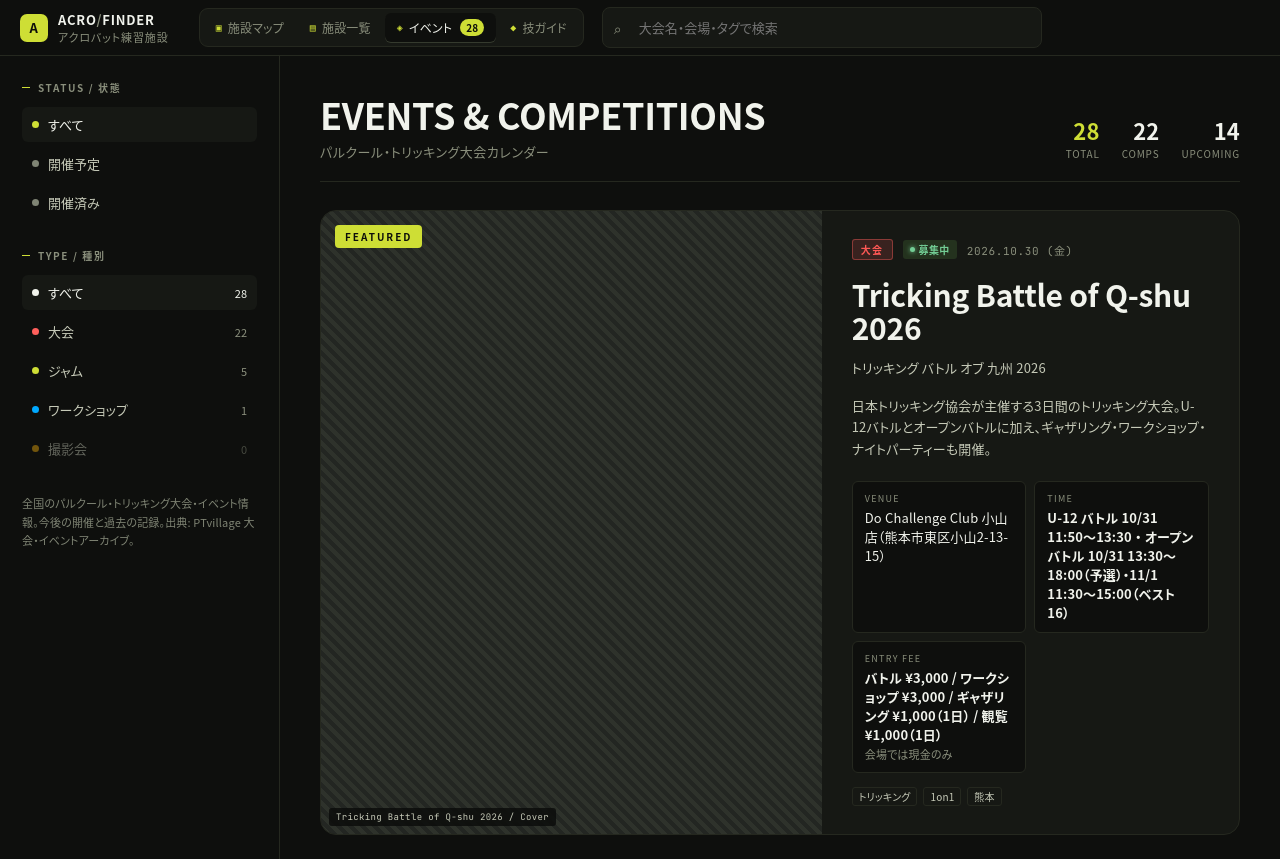
Test: EventsFeed › SHIG review › clears every condition from the empty state
This screenshot has width=1280, height=859.
Click the button with class "filter-row" showing "ジャム 5" at coordinates (140, 370), box [22,353,257,388]
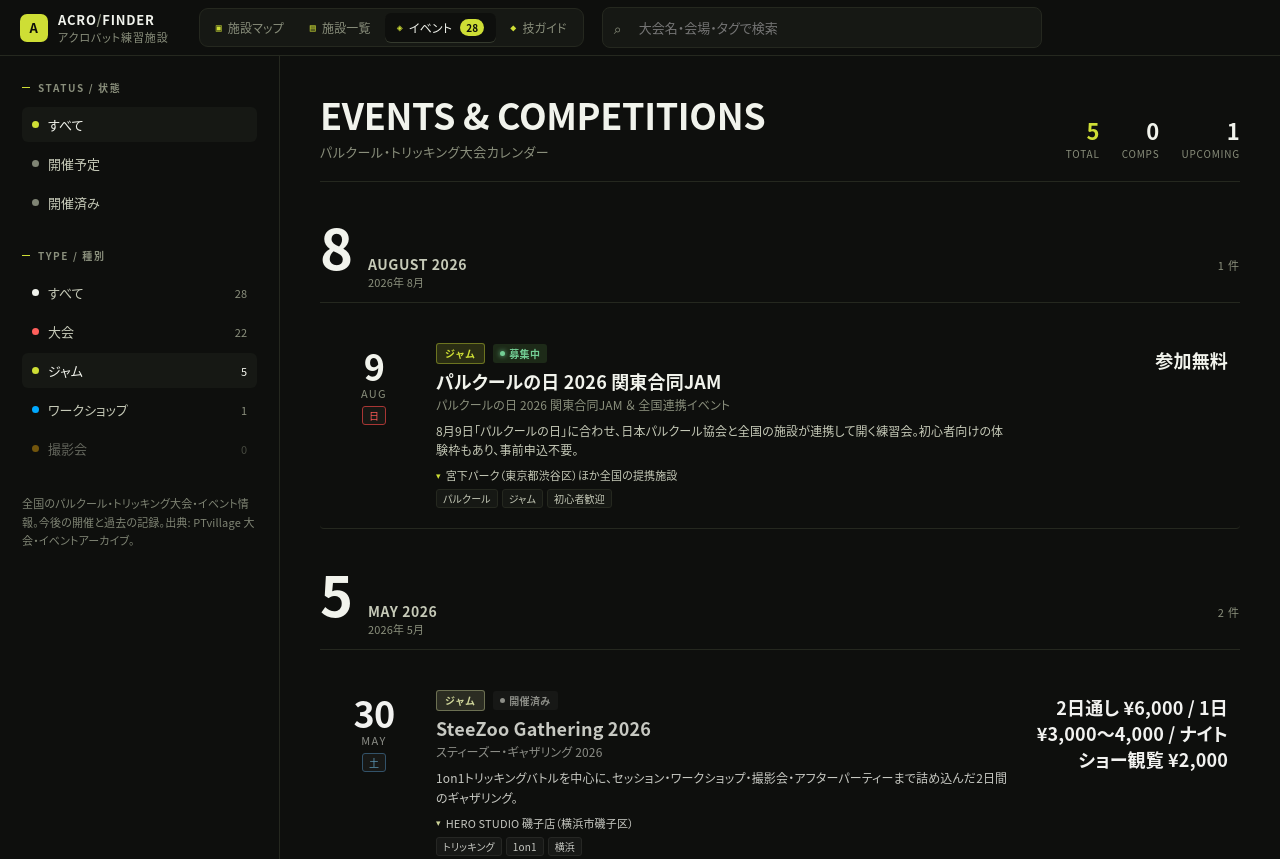
Type "zzz-no-such-event" into the search field with placeholder "大会名・会場・タグで検索" at coordinates (822, 28), box [602,7,1042,48]
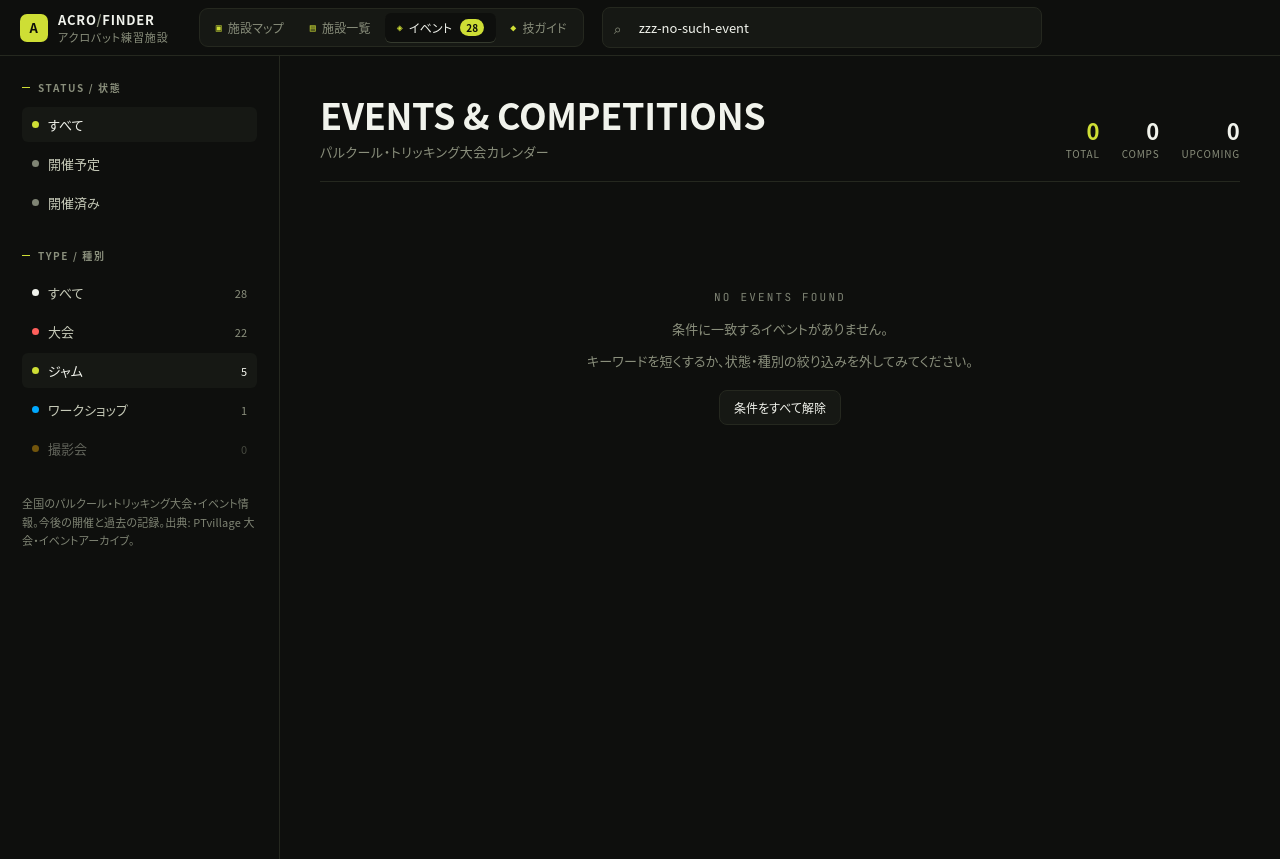
Click the button "条件をすべて解除" at coordinates (780, 408), box [719,390,841,425]
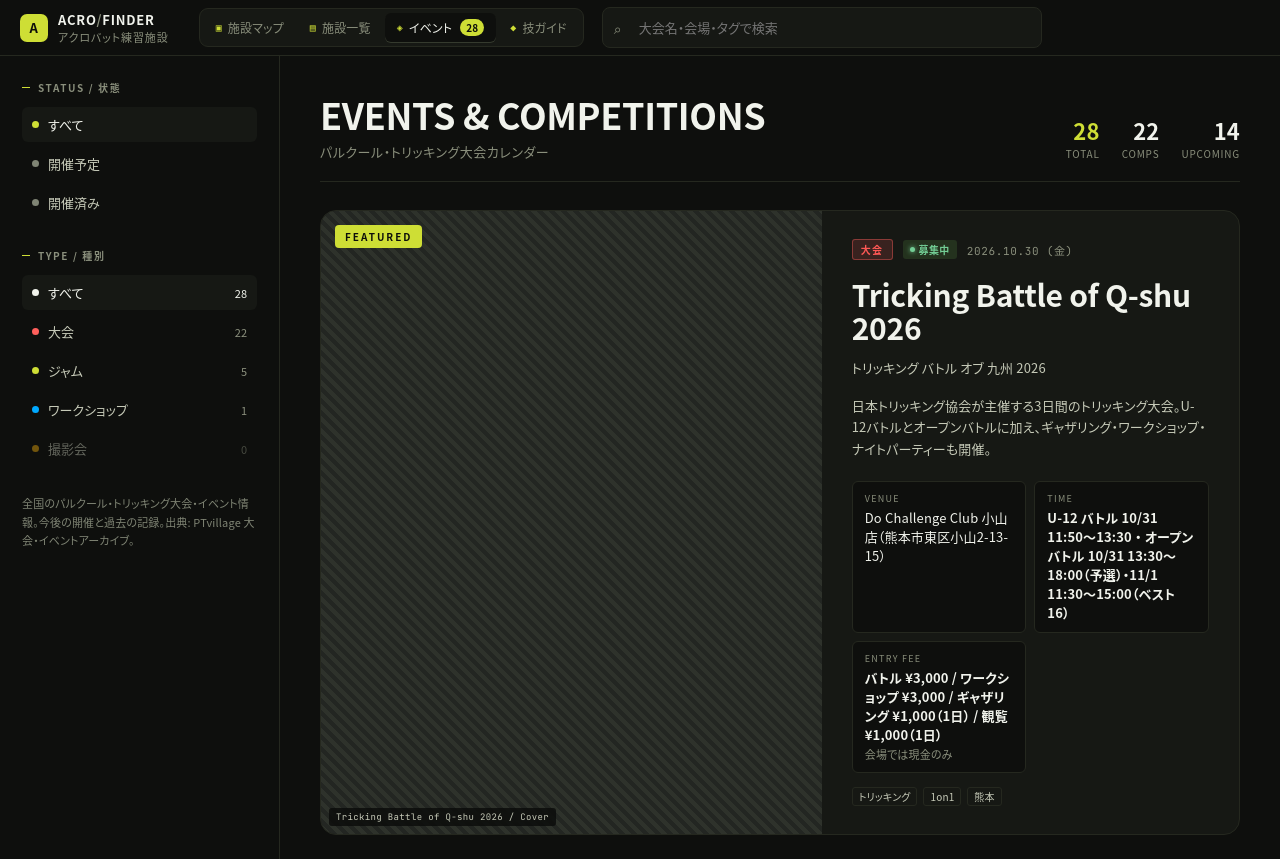
Expected: the search field with placeholder "大会名・会場・タグで検索" is empty, [602,7,1042,48]
Expected: the text "NO EVENTS FOUND" is gone
